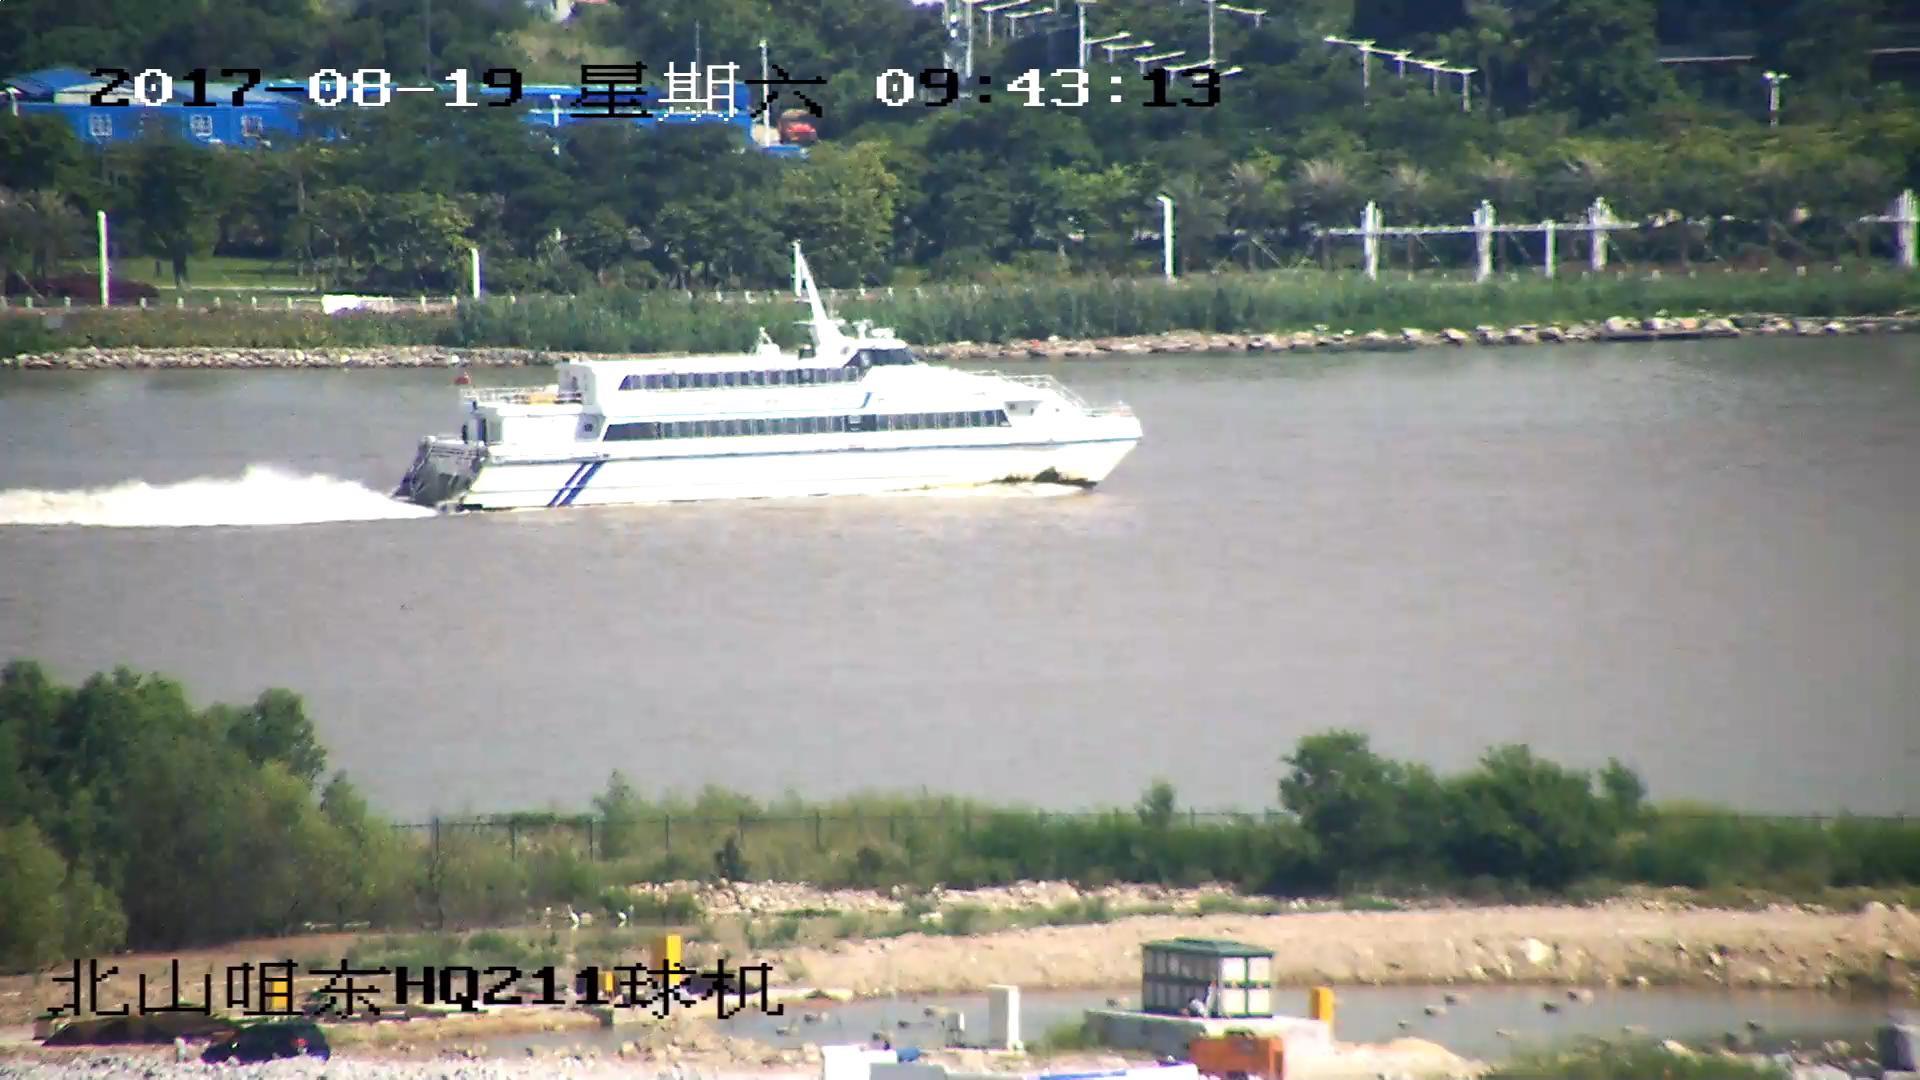passenger ship: (395, 251, 1138, 513)
